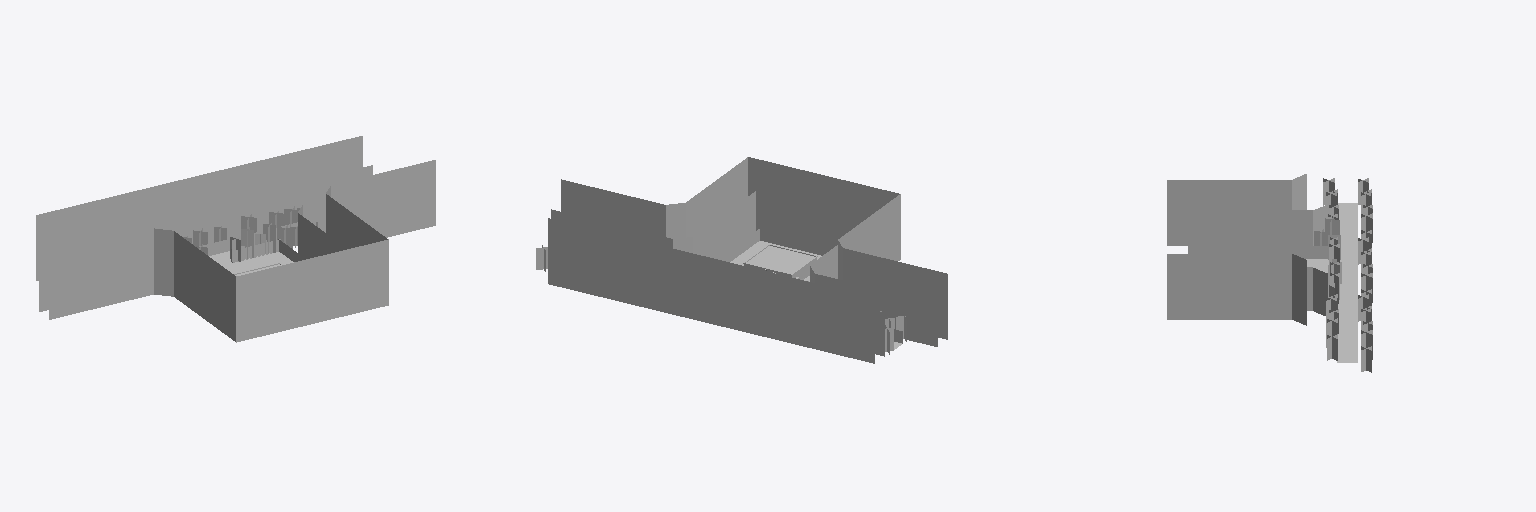
File: lvl.obj
The picture shows the model from 3 angles: view 1: azimuth 30°, elevation 25°; view 2: azimuth 150°, elevation 25°; view 3: azimuth 270°, elevation 25°; orthographic projection.
Visible parts, largest first — view 1: Vegetation_bottom.001_Cube.285, Vegetation_bottom.004_Cube.294, Vegetation_bottom.002_Cube.292, Vegetation_bottom.003_Cube.293, parking_Cube.044; view 2: Vegetation_bottom.001_Cube.285, Vegetation_bottom.004_Cube.294, Vegetation_bottom.003_Cube.293, Shop_VHS.008_Cube.194, Vegetation_bottom.002_Cube.292; view 3: Vegetation_bottom.001_Cube.285, Vegetation_bottom.004_Cube.294, Vegetation_bottom.002_Cube.292, Road_Cube.078, Vegetation_bottom.003_Cube.293.
Part boxes in pixels (x1,y1,x2,y2): Vegetation_bottom.001_Cube.285: (36,136,435,342); Vegetation_bottom.004_Cube.294: (39,165,372,311); Vegetation_bottom.002_Cube.292: (183,206,317,261); Vegetation_bottom.003_Cube.293: (199,222,305,261); parking_Cube.044: (220,252,293,273); Vegetation_bottom.001_Cube.285: (548,157,947,363); Vegetation_bottom.004_Cube.294: (551,191,937,356); Vegetation_bottom.003_Cube.293: (718,228,902,343); Shop_VHS.008_Cube.194: (743,244,817,275); Vegetation_bottom.002_Cube.292: (536,245,906,354); Vegetation_bottom.001_Cube.285: (1167,174,1306,325); Vegetation_bottom.004_Cube.294: (1188,204,1327,315); Vegetation_bottom.002_Cube.292: (1314,178,1372,372); Road_Cube.078: (1337,203,1357,362); Vegetation_bottom.003_Cube.293: (1197,246,1336,263).
Bounding box in the file's own units: 3960 × 770 × 2002.